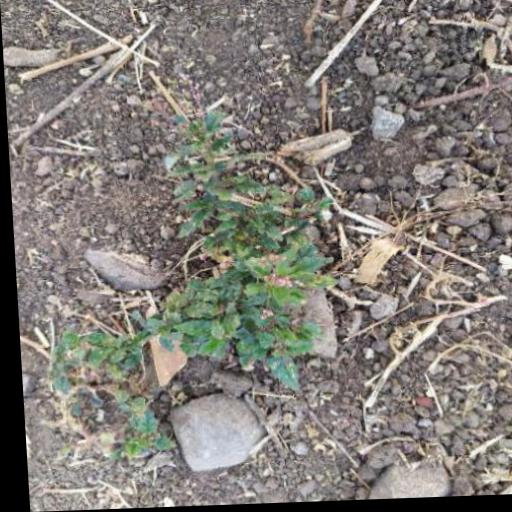weed: (56, 116, 357, 461)
